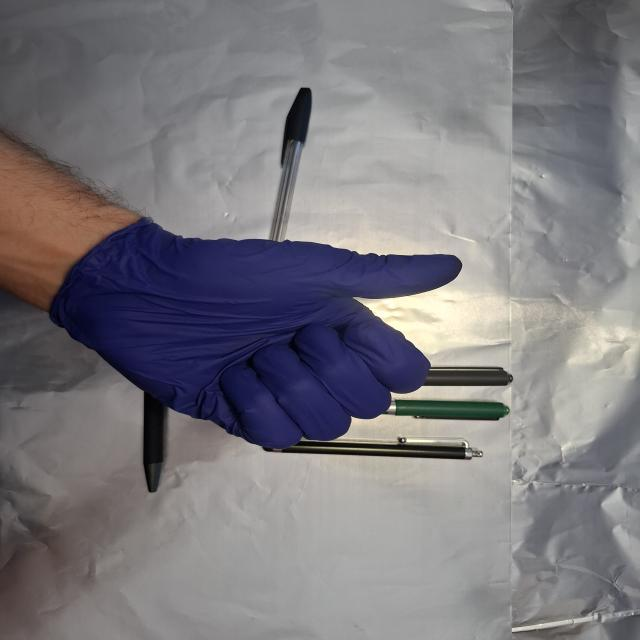glove_on: (49, 216, 467, 454)
